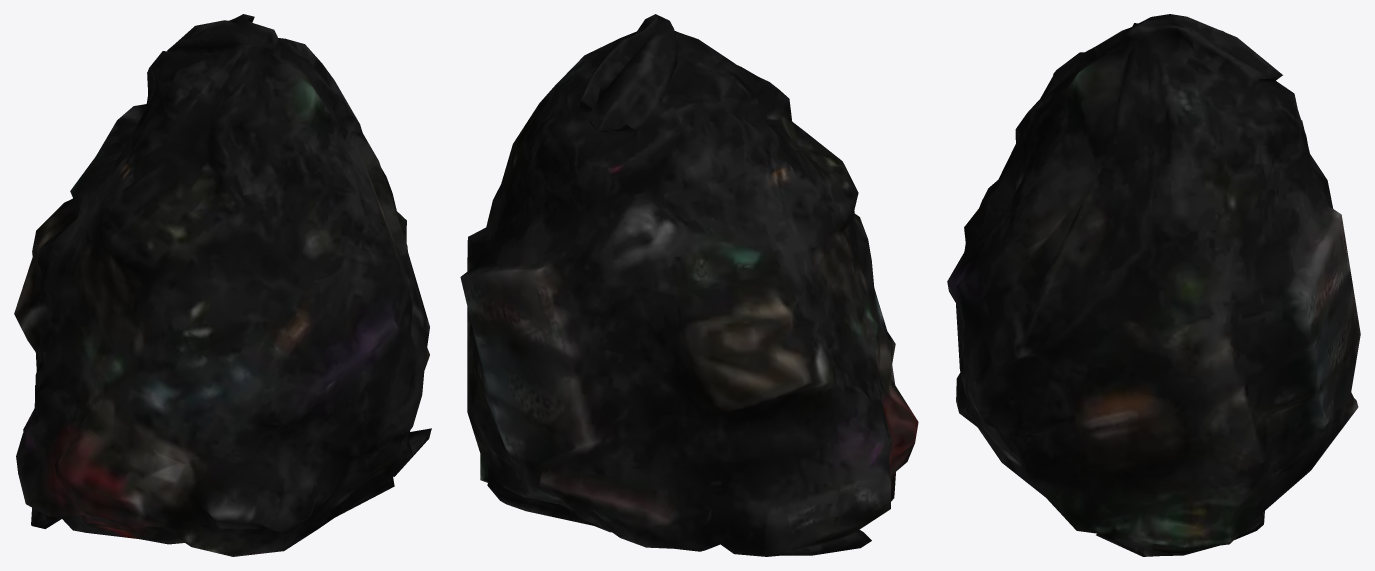
Rendered from trashbag.glb.
3 renders of one model, left to right at view 1: azimuth 30°, elevation 25°; view 2: azimuth 150°, elevation 25°; view 3: azimuth 270°, elevation 25°, orthographic. The views are drawn at different scales.
Visible parts, largest first — view 1: trashbag; view 2: trashbag; view 3: trashbag.
Boxes of the visible parts, box(x1,y1,x2,y2) form: trashbag: box(14, 14, 431, 556); trashbag: box(460, 14, 918, 556); trashbag: box(947, 14, 1360, 556).
Bounding box in the file's own units: 0.5281 × 0.5725 × 0.4629.
Materials: 1 (1 with a texture image).
